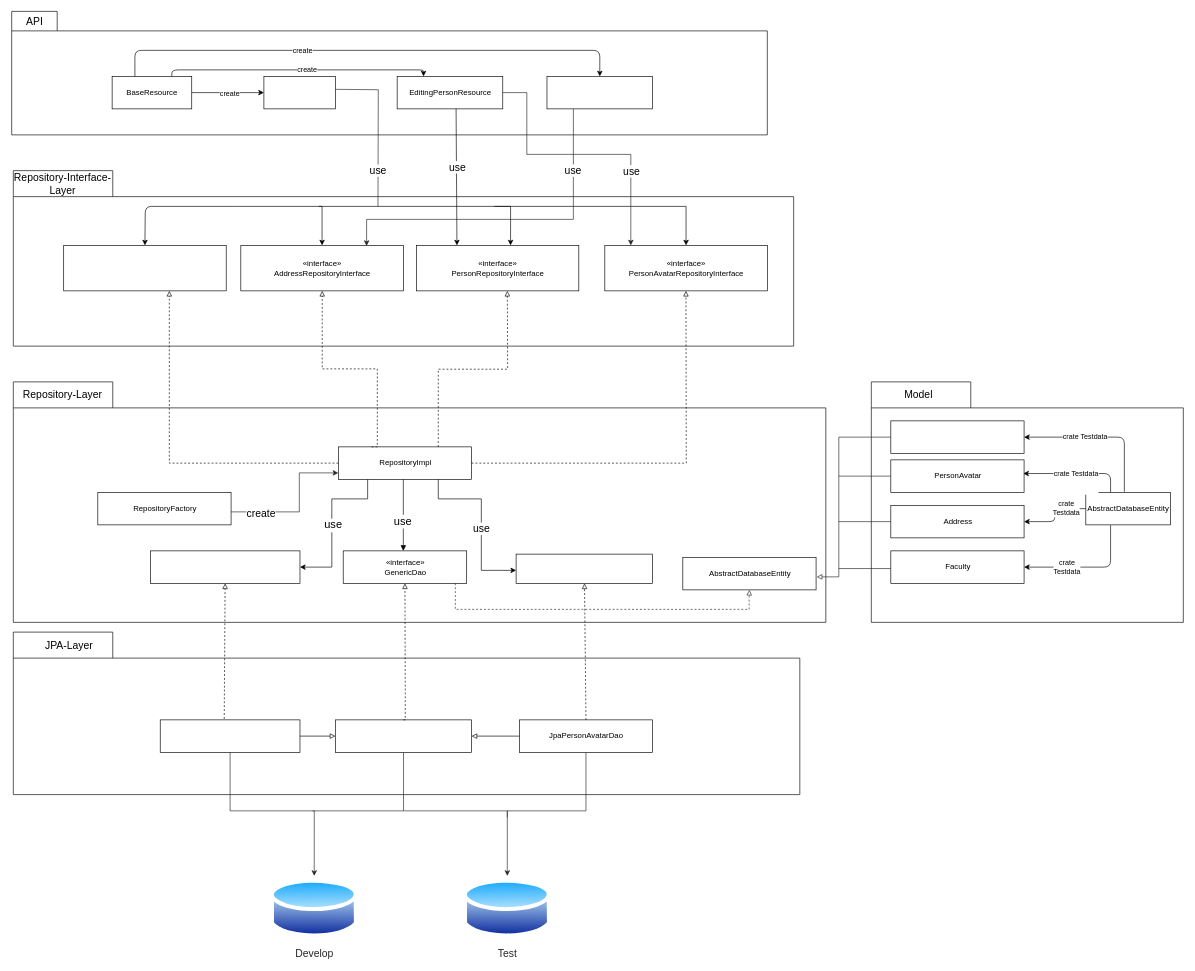
This 1195x971 diagram has some shape labels left out. The centre of each missing label's shape, as x and y in pixels:
"EditingAddressResource" goes at [599,92].
"JpaGenricDao" goes at [403,735].
"JpaPersonDao" goes at [230,735].
"Person" goes at [957,436].
"SearchingResource" goes at [299,92].
"«interface» FacultyRepositoryInterface" goes at [144,268].
"«interface» PersonAvatarDao" goes at [584,568].
"«interface» PersonDao" goes at [225,566].
